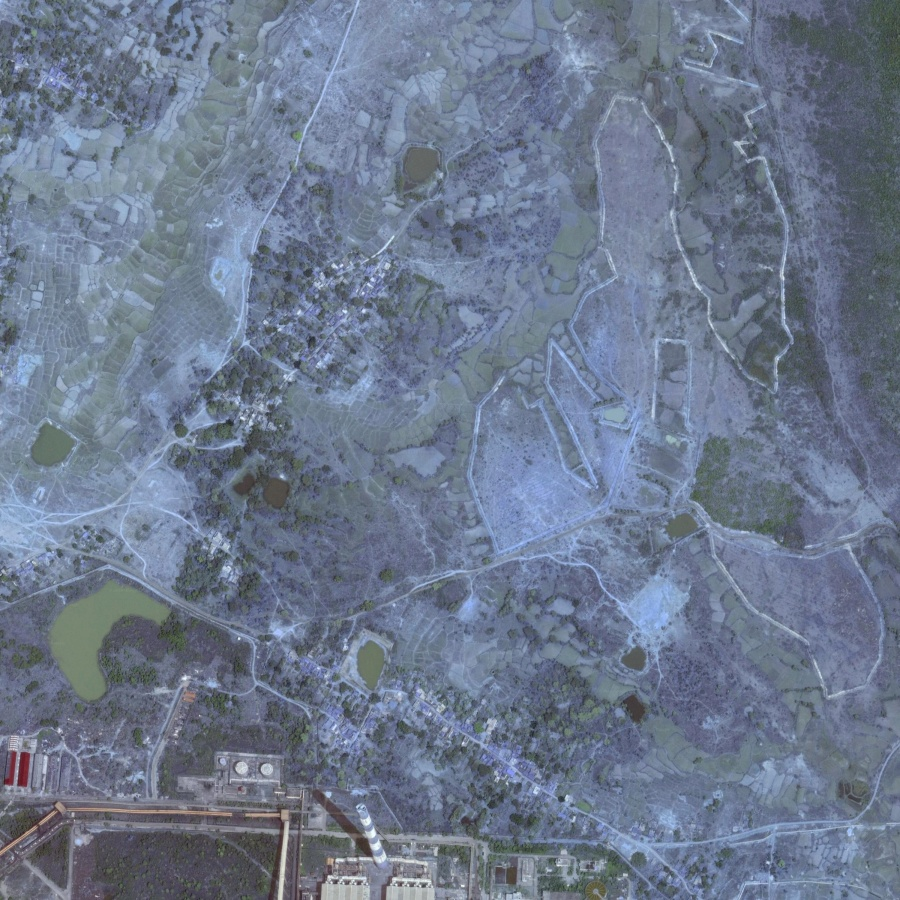PowerPlant: (287, 764, 441, 897)
